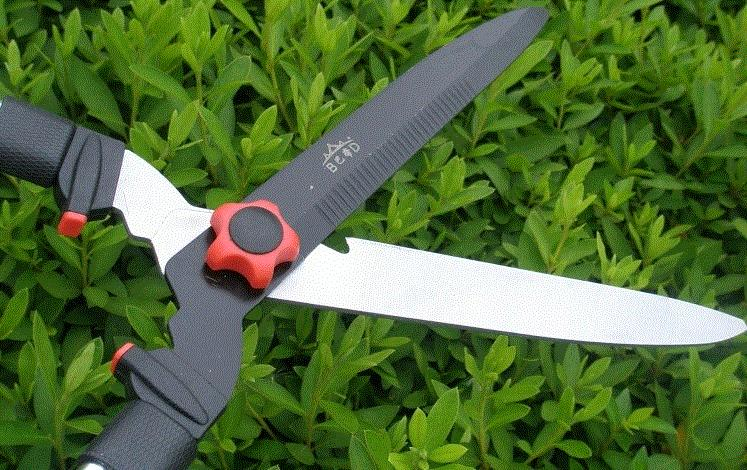scissor: (18, 53, 706, 437)
